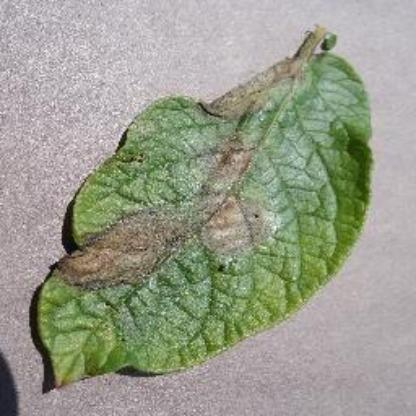Late-Blight: (24, 13, 392, 393)
